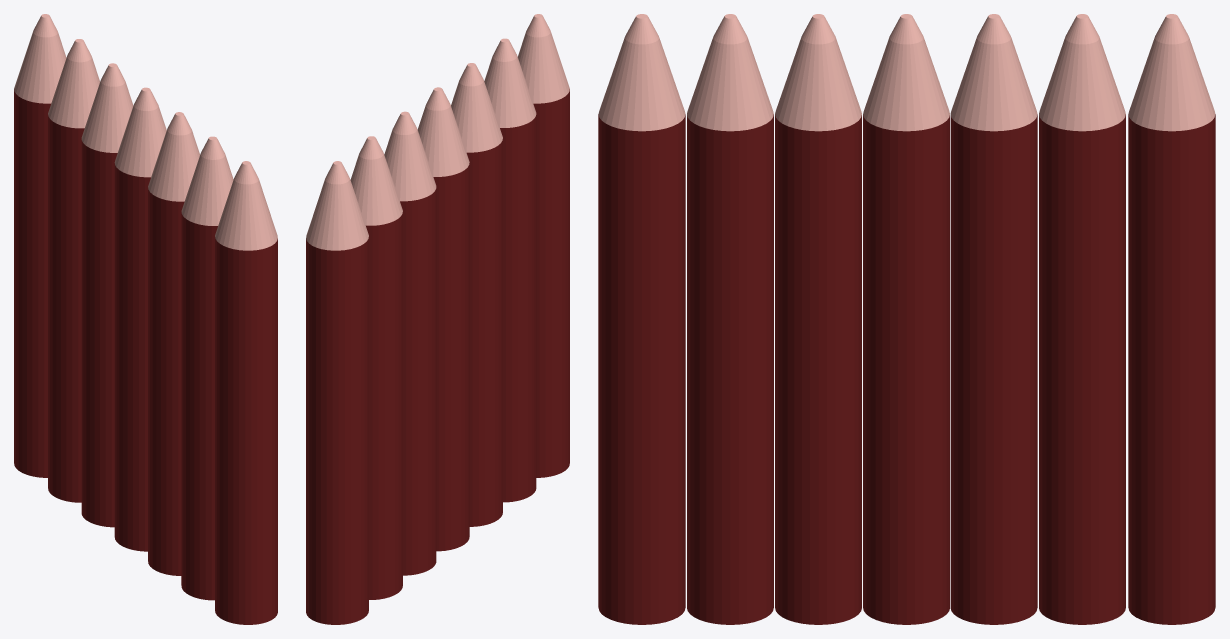
The model's file is LogWall.fbx.
The picture shows the model from 3 angles, left to right: view 1: azimuth 30°, elevation 25°; view 2: azimuth 150°, elevation 25°; view 3: azimuth 270°, elevation 25°; orthographic projection. The views are drawn at different scales.
Visible parts, largest first — view 1: LogWall; view 2: LogWall; view 3: LogWall.
Part boxes in pixels (x1,y1,x2,y2): LogWall: [14, 14, 277, 624]; LogWall: [306, 14, 569, 624]; LogWall: [598, 14, 1215, 624].
Size of the model in its own units: 150 by 1198 by 1133.
